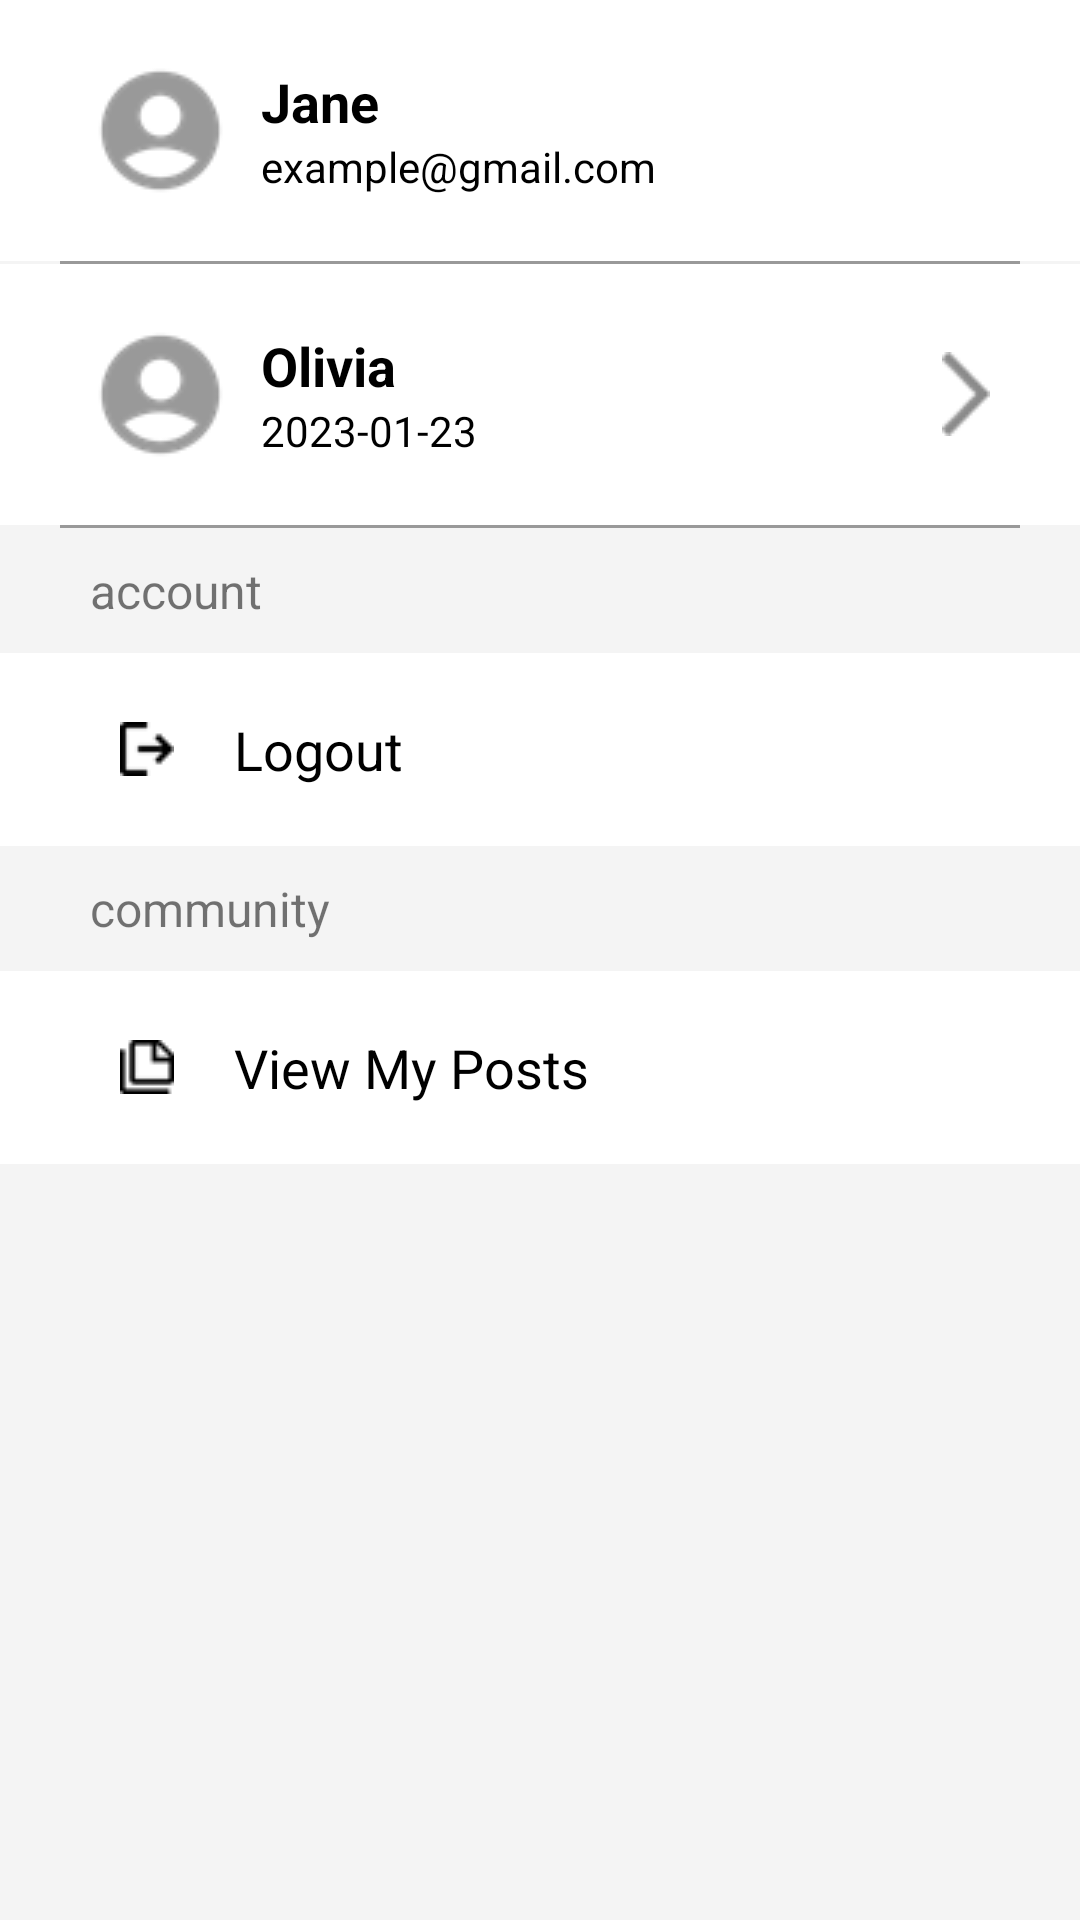

Icons on this 1080w x 1920h Android screen, each with the point to tap as (x,y):
next: (966,394)
user: (160,130), (160,394)
